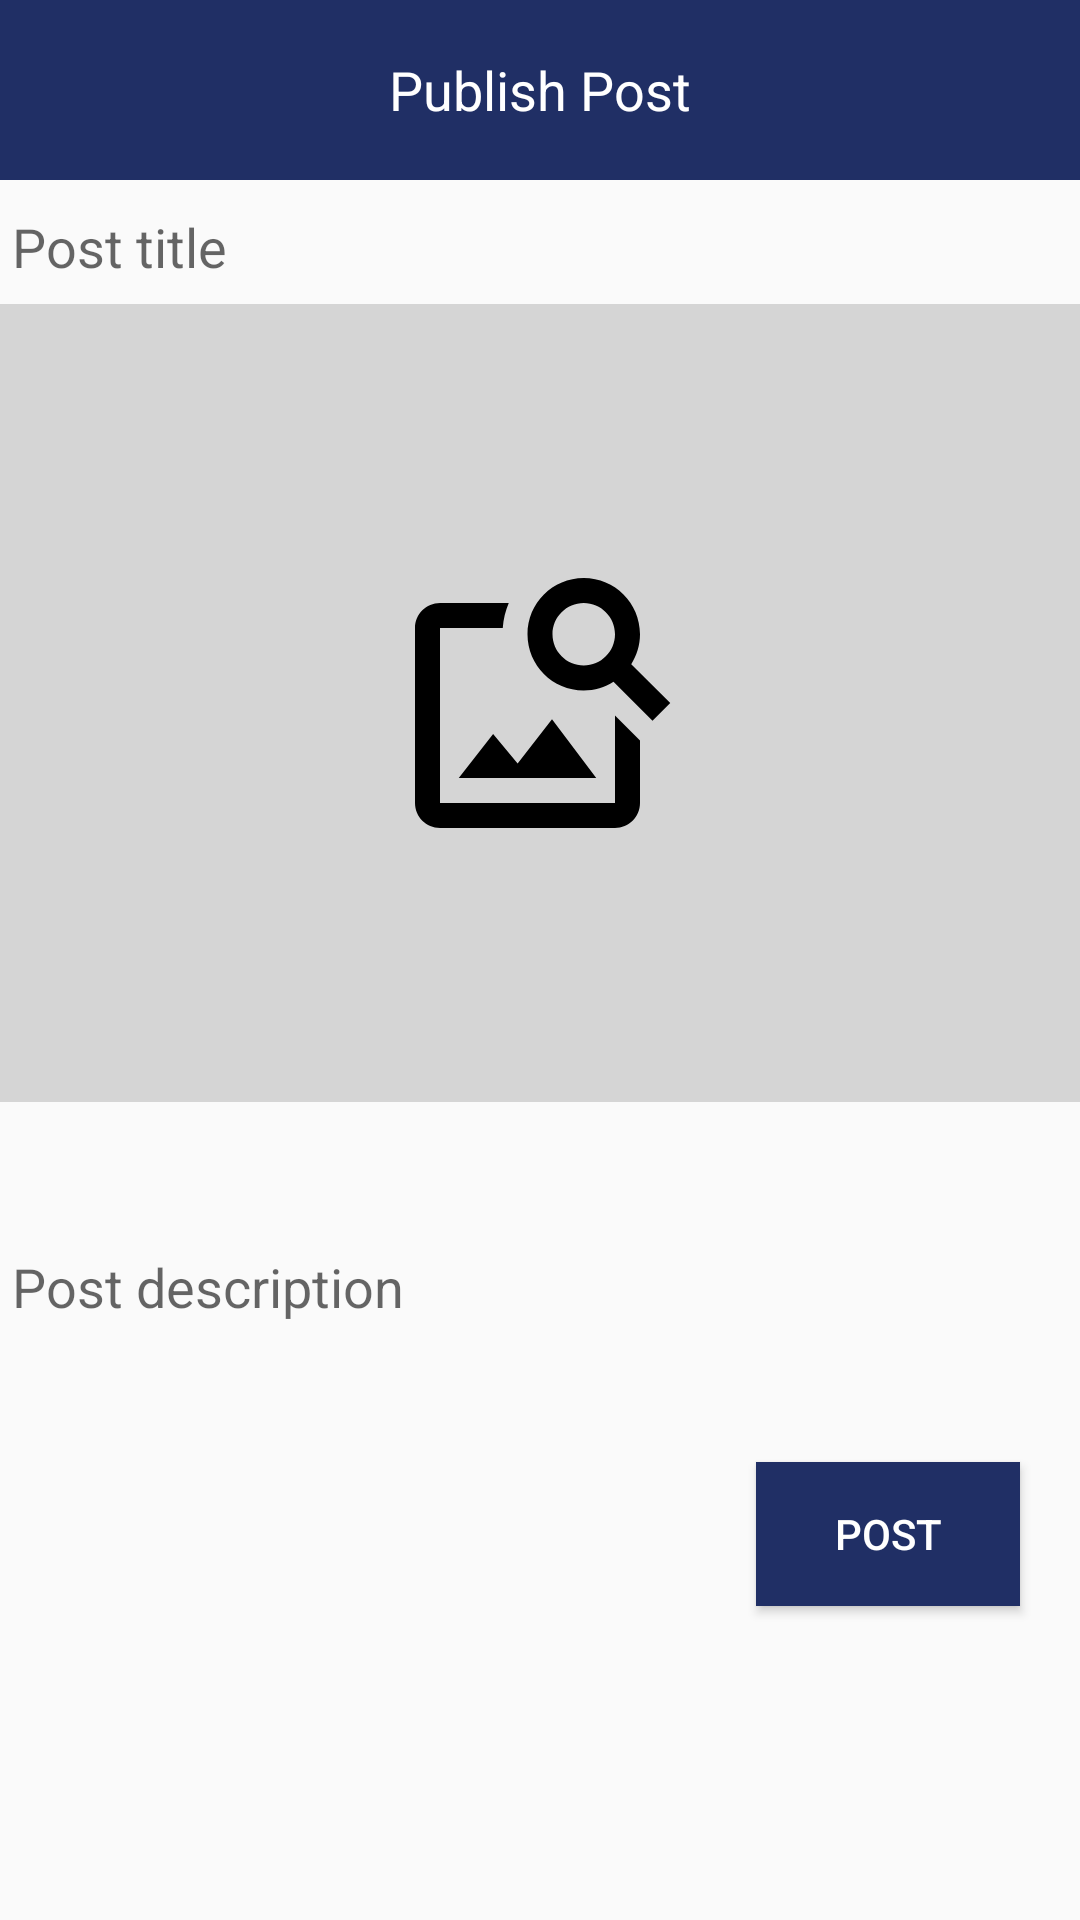

Where to tap for icons on this 1080*1920 app screen, as (x=x, y=y):
search: (x=542, y=703)
